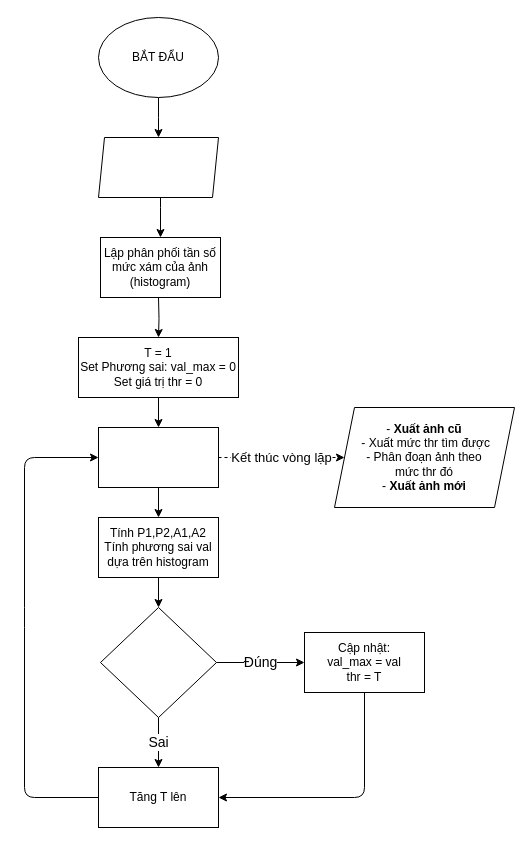
The diagram is 532 pixels wide and 845 high, and some of its shapes have lost their labels. The centre of each missing label's shape, as x and y in pixels:
"Load hình ảnh cần tìm ngưỡng thr" goes at (x=158, y=167).
"vai > val_max" goes at (x=158, y=662).
"Vòng lặp T từ 1 đến 255" goes at (x=158, y=457).
